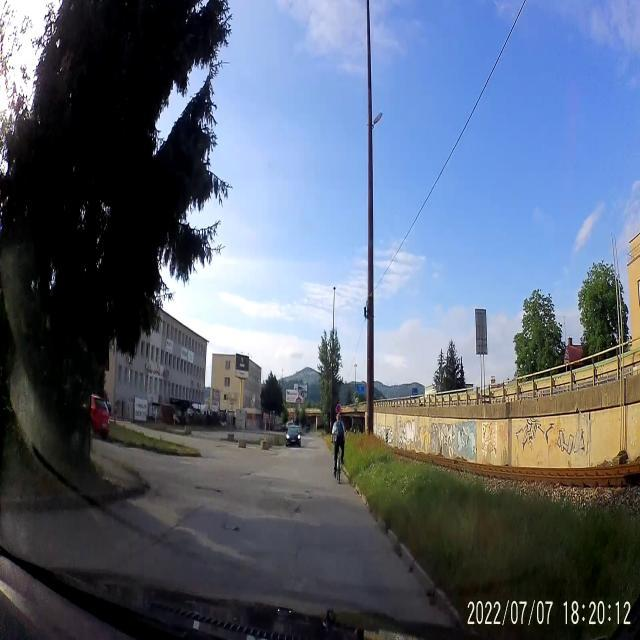Manhole: (290, 489, 316, 501)
Pothole: (188, 477, 222, 497), (223, 516, 243, 540), (290, 504, 304, 516), (240, 468, 258, 477)
